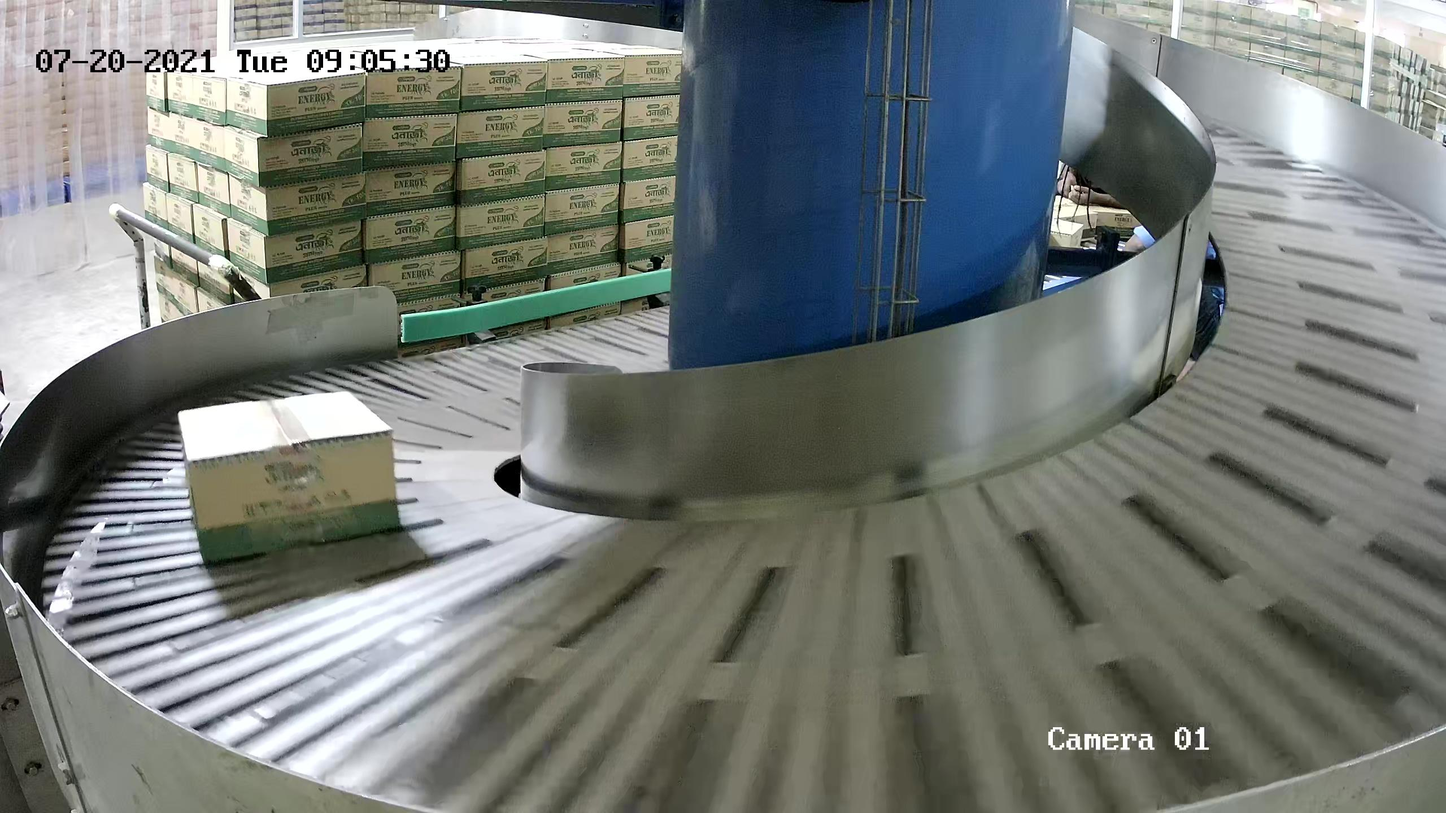Box: (178, 391, 401, 571)
